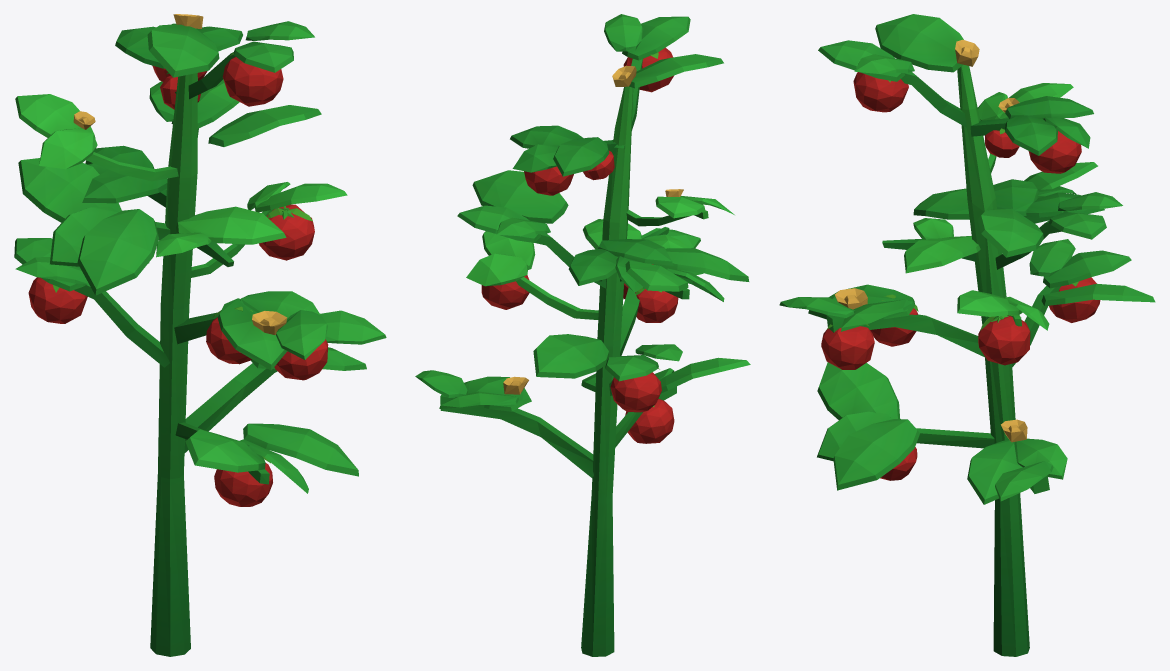
File: crop_tomato_stage3.glb
3 renders of one model, left to right at view 1: azimuth 30°, elevation 25°; view 2: azimuth 150°, elevation 25°; view 3: azimuth 270°, elevation 25°, orthographic. The views are drawn at different scales.
Visible parts, largest first — view 1: crop_tomato_stage3; view 2: crop_tomato_stage3; view 3: crop_tomato_stage3.
Part boxes in pixels (x1=…): crop_tomato_stage3: x1=14, y1=14, x2=386, y2=656; crop_tomato_stage3: x1=415, y1=14, x2=750, y2=656; crop_tomato_stage3: x1=779, y1=14, x2=1155, y2=656.
Size of the model in its own units: 0.5584 by 1 by 0.559.
Materials: 1 (1 with a texture image).
